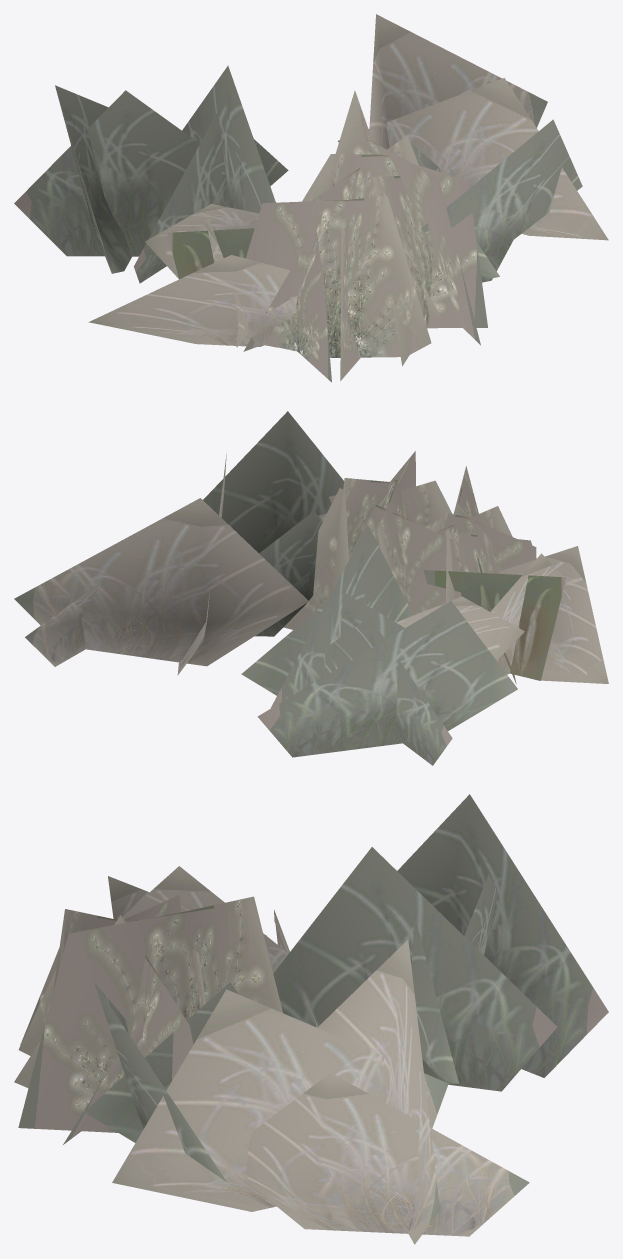
The model's file is prop_grass_da.FBX.
The picture shows the model from 3 angles, top to bottom: view 1: azimuth 30°, elevation 25°; view 2: azimuth 150°, elevation 25°; view 3: azimuth 270°, elevation 25°; orthographic projection. The views are drawn at different scales.
Visible parts, largest first — view 1: prop_grass_da; view 2: prop_grass_da; view 3: prop_grass_da.
Boxes of the visible parts, x1,y1,x2,y2 form: prop_grass_da: [14, 14, 608, 382]; prop_grass_da: [14, 411, 608, 765]; prop_grass_da: [14, 794, 608, 1244].
Size of the model in its own units: 2.67 by 2.17 by 0.9214.
1 material, 1 textured.
